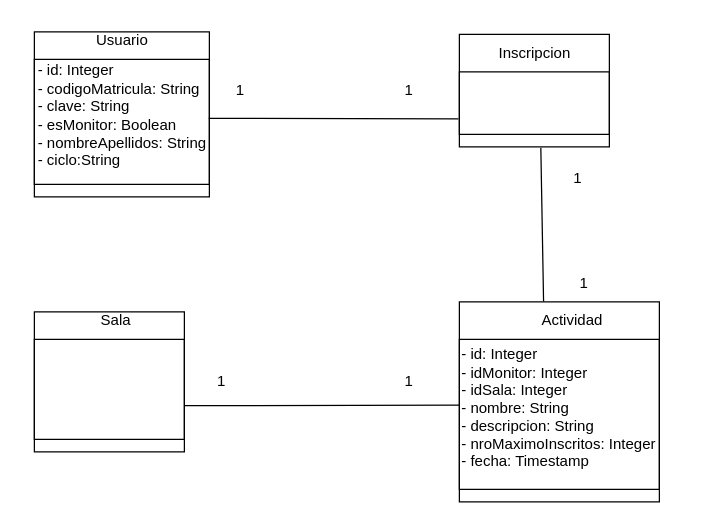
The diagram is 705 pixels wide and 524 high, and some of its shapes have lost their labels. The centre of each missing label's shape, as x and y in pixels:
- id: Integer - codigoSala: String - capacidad: Integer - tipoSala: String: (108,388)
- idUsuario: Integer - idActividad: Integer: (533,109)
